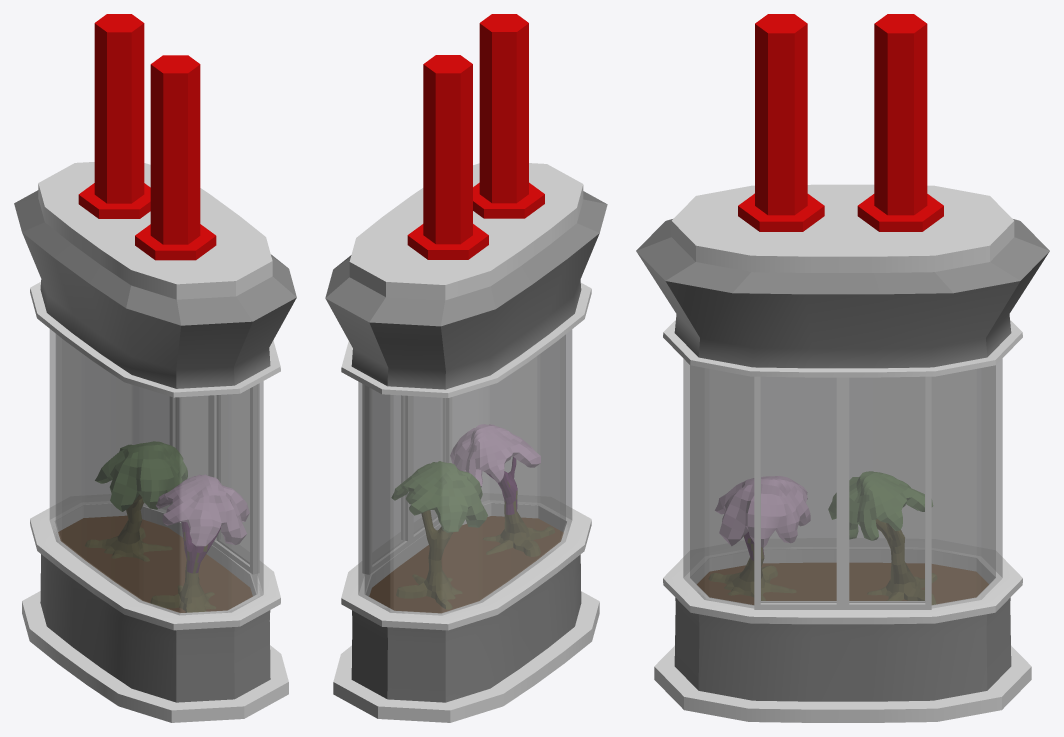
File: estufa3.fbx
3 renders of one model, left to right at view 1: azimuth 30°, elevation 25°; view 2: azimuth 150°, elevation 25°; view 3: azimuth 270°, elevation 25°, orthographic. The views are drawn at different scales.
Parts seen in each view (by area): view 1: estufa3; view 2: estufa3; view 3: estufa3.
Part boxes in pixels (x1,y1,x2,y2): estufa3: (14,14,296,722); estufa3: (325,14,607,722); estufa3: (636,14,1049,722).
Bounding box in the file's own units: 0.9834 × 3.44 × 1.98.
